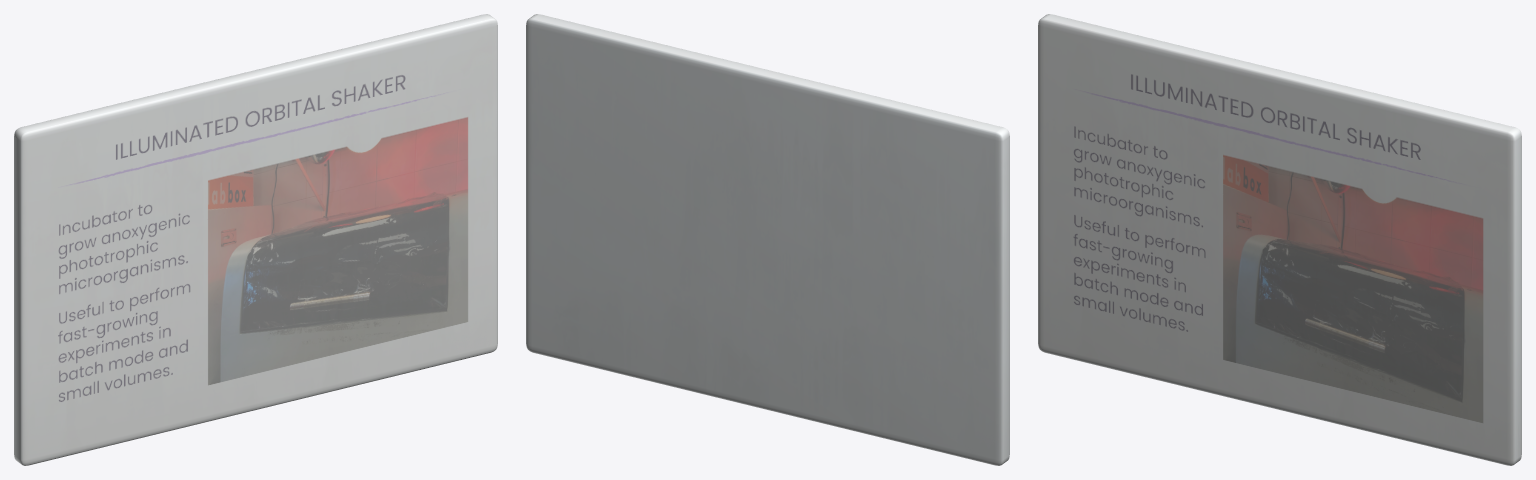
File: Cartel_IncubadoraMedio.glb
The picture shows the model from 3 angles, left to right: view 1: azimuth 30°, elevation 25°; view 2: azimuth 150°, elevation 25°; view 3: azimuth 330°, elevation 25°; orthographic projection.
Parts seen in each view (by area): view 1: Box011; view 2: Box011; view 3: Box011.
Part boxes in pixels (x1=…): Box011: x1=14, y1=14, x2=497, y2=465; Box011: x1=526, y1=14, x2=1009, y2=465; Box011: x1=1038, y1=14, x2=1521, y2=465.
Size of the model in its own units: 1.1 by 0.7335 by 0.0348.
1 material, 1 textured.
